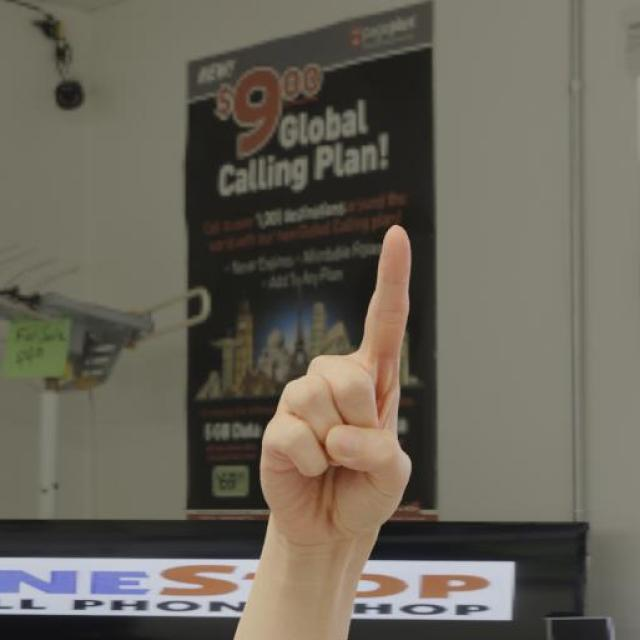Z: (255, 222, 416, 553)
